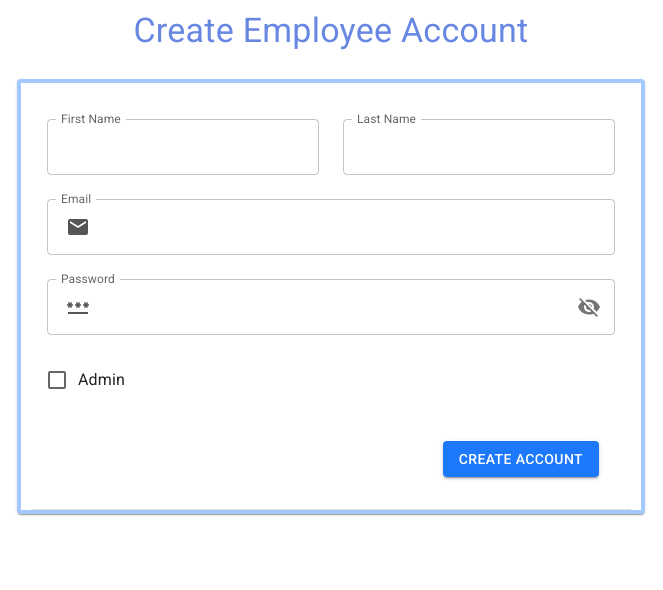
Test case: SignupForm › should show an error when the last name is shorter than 3 characters
The width and height of the screenshot is (663, 590).
// We click on the create account button
Click the button "Create account" at (521, 459), box [443,441,599,477]
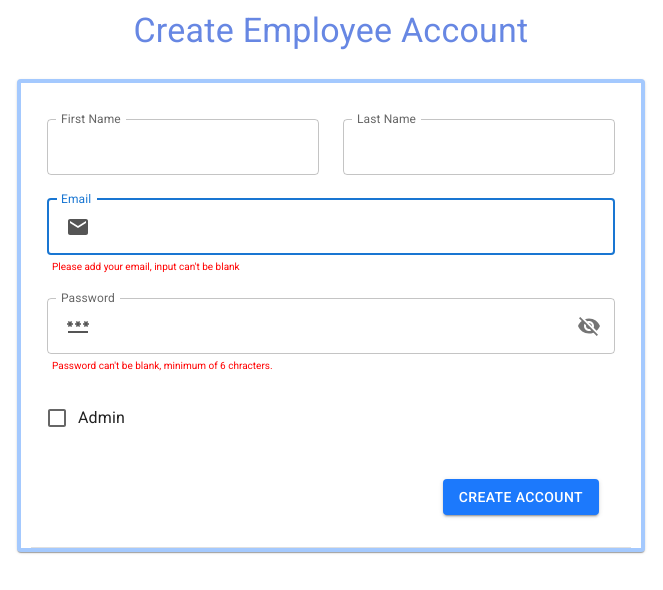
// We type in a last name that's too short
Type "hi" into the field labelled "Last Name" at (484, 147), box [375,119,593,175]
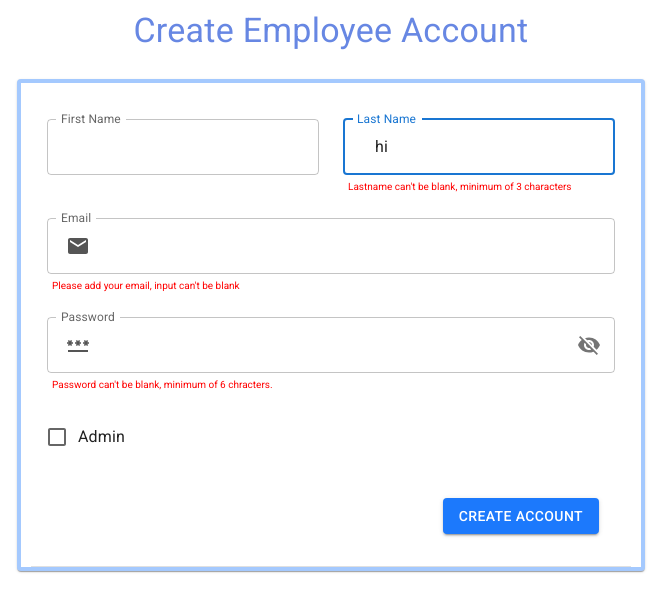
Check: the text "Lastname can't be blank, minimum of 3 characters" is shown, box [343,181,576,192]
